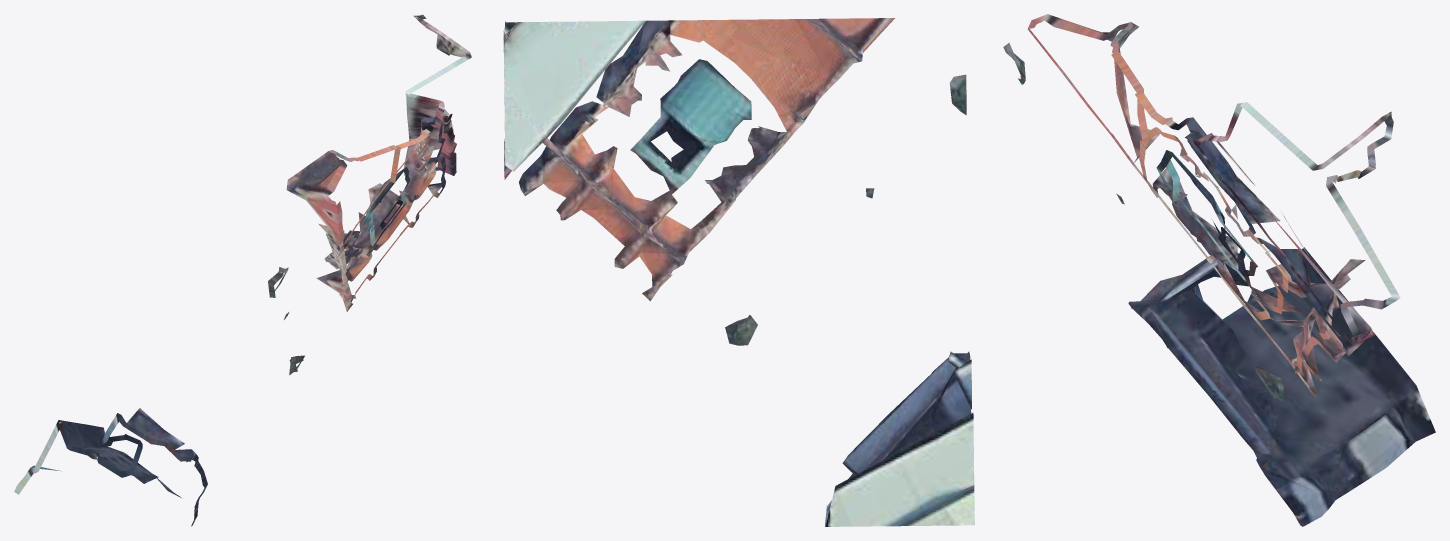
3 renders of one model, left to right at view 1: azimuth 30°, elevation 25°; view 2: azimuth 150°, elevation 25°; view 3: azimuth 270°, elevation 25°, orthographic. The views are drawn at different scales.
Size of the model in its own units: 42.04 by 38.27 by 25.64.
1 material, 1 textured.
